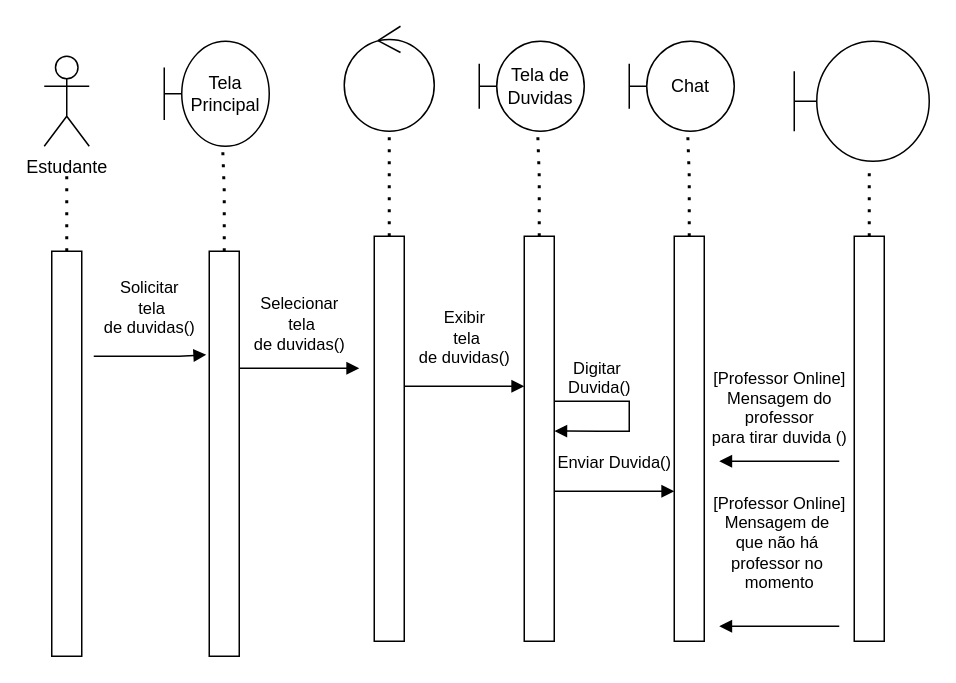
This 956x683 diagram has some shape labels left out. The centre of each missing label's shape, as x and y in pixels:
"Controle de Duvidas" goes at pixel 388 78.
"Plataforma de Professores" goes at pixel 861 100.
